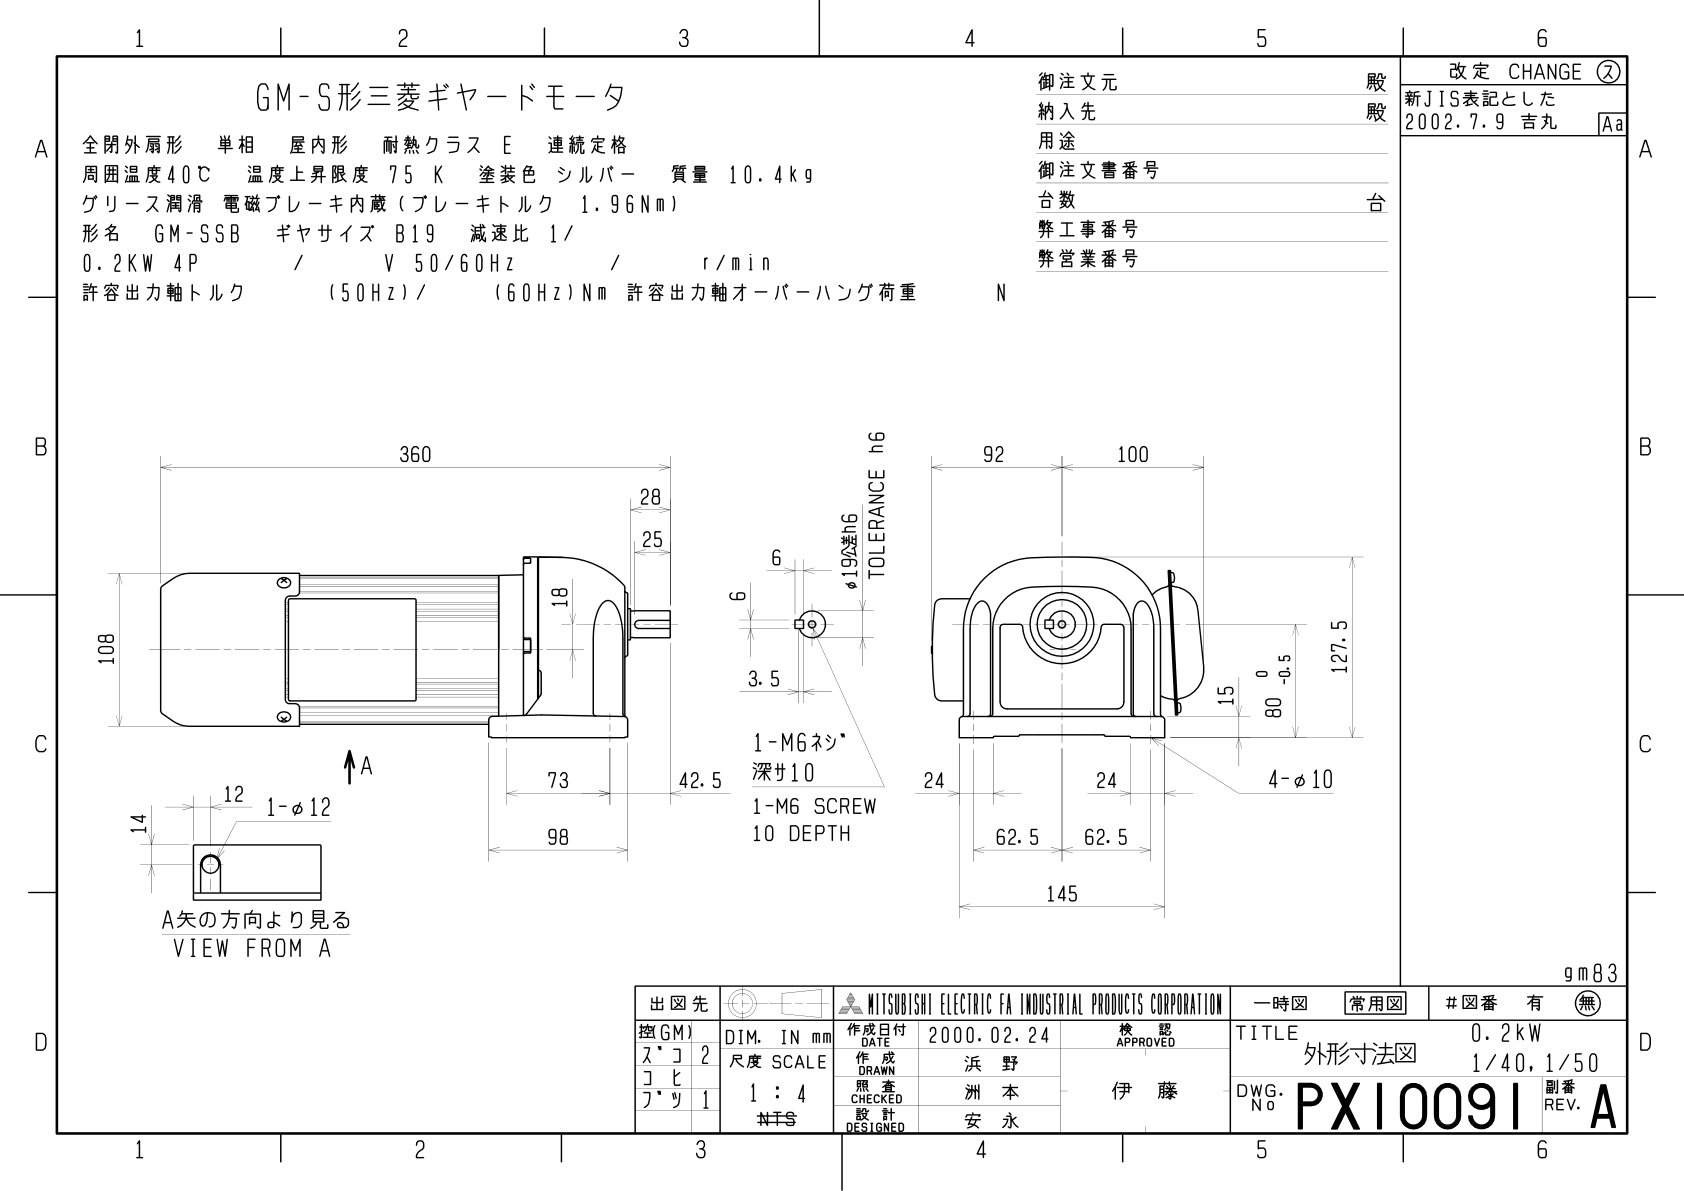GM_S_屋内＿三相_脚: (77, 394, 1383, 971)
